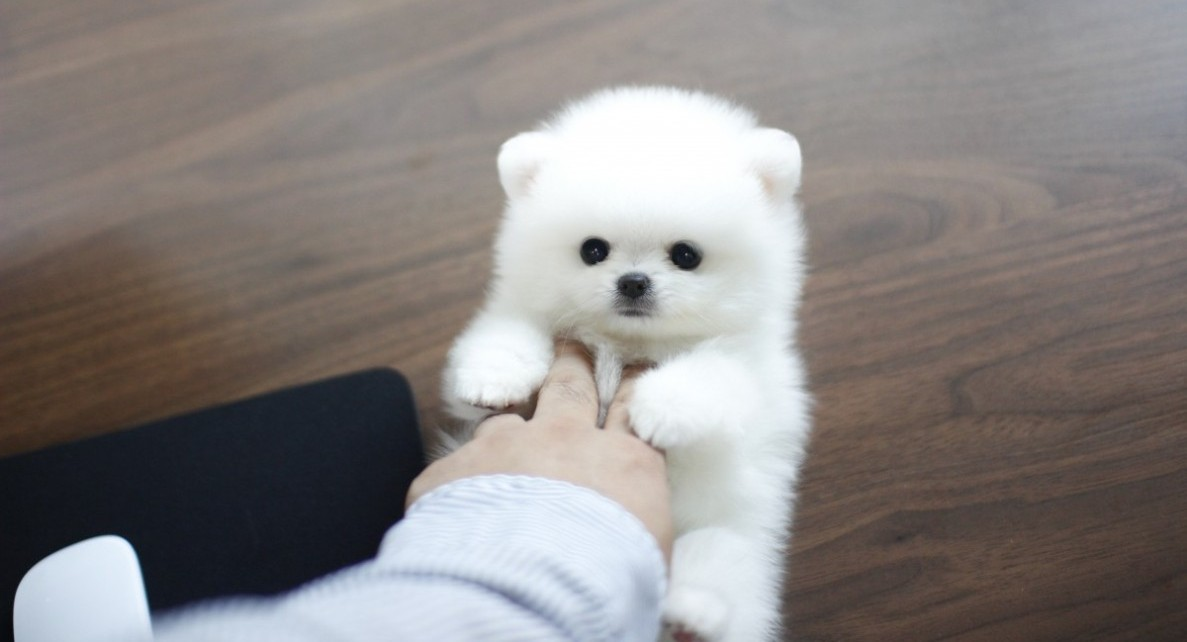pomeranian: (465, 50, 825, 642)
